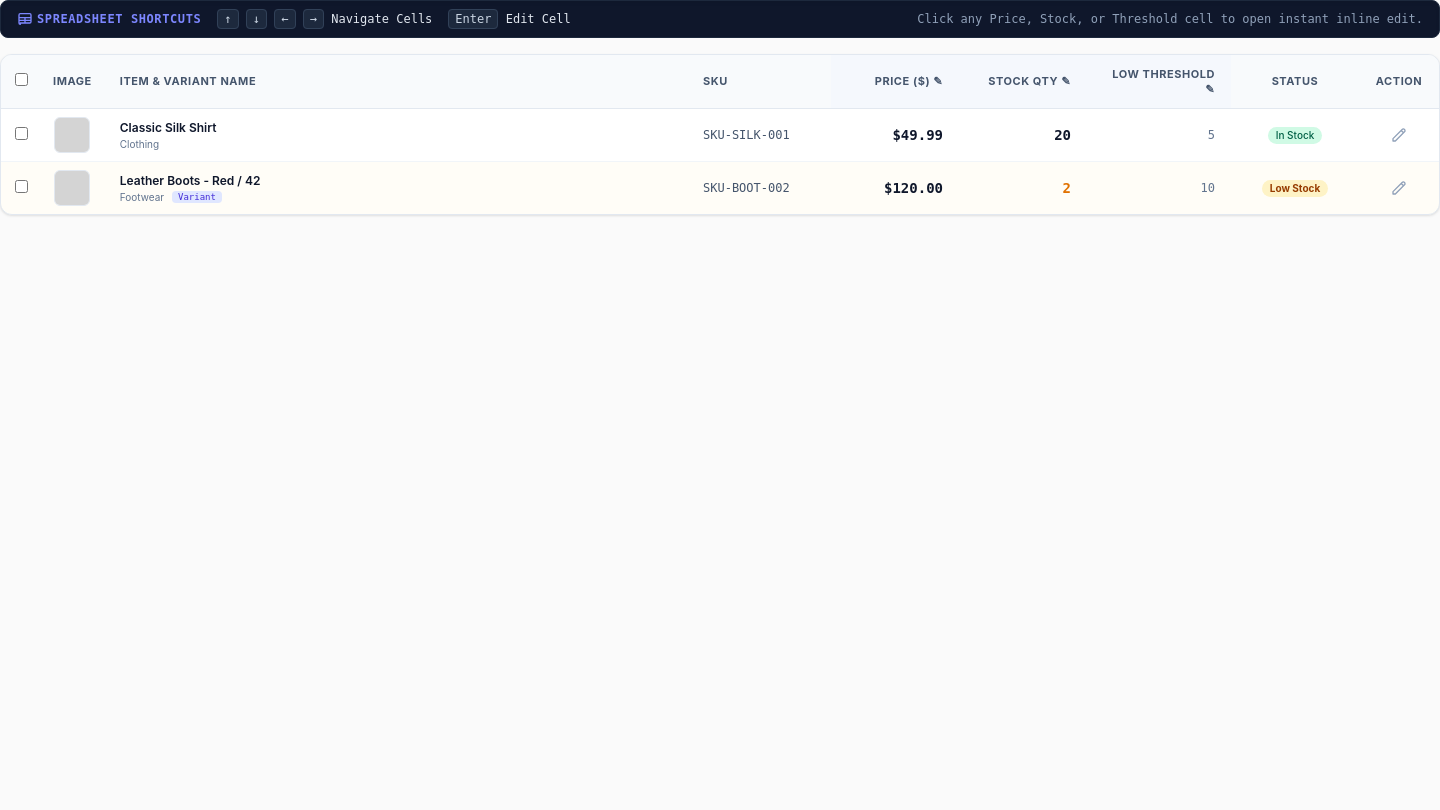
Test: InventoryTable Component › opens inline edit popover when cell is clicked
Click the text "$49.99" at {"x": 895, "y": 135}, box [831, 109, 959, 162]
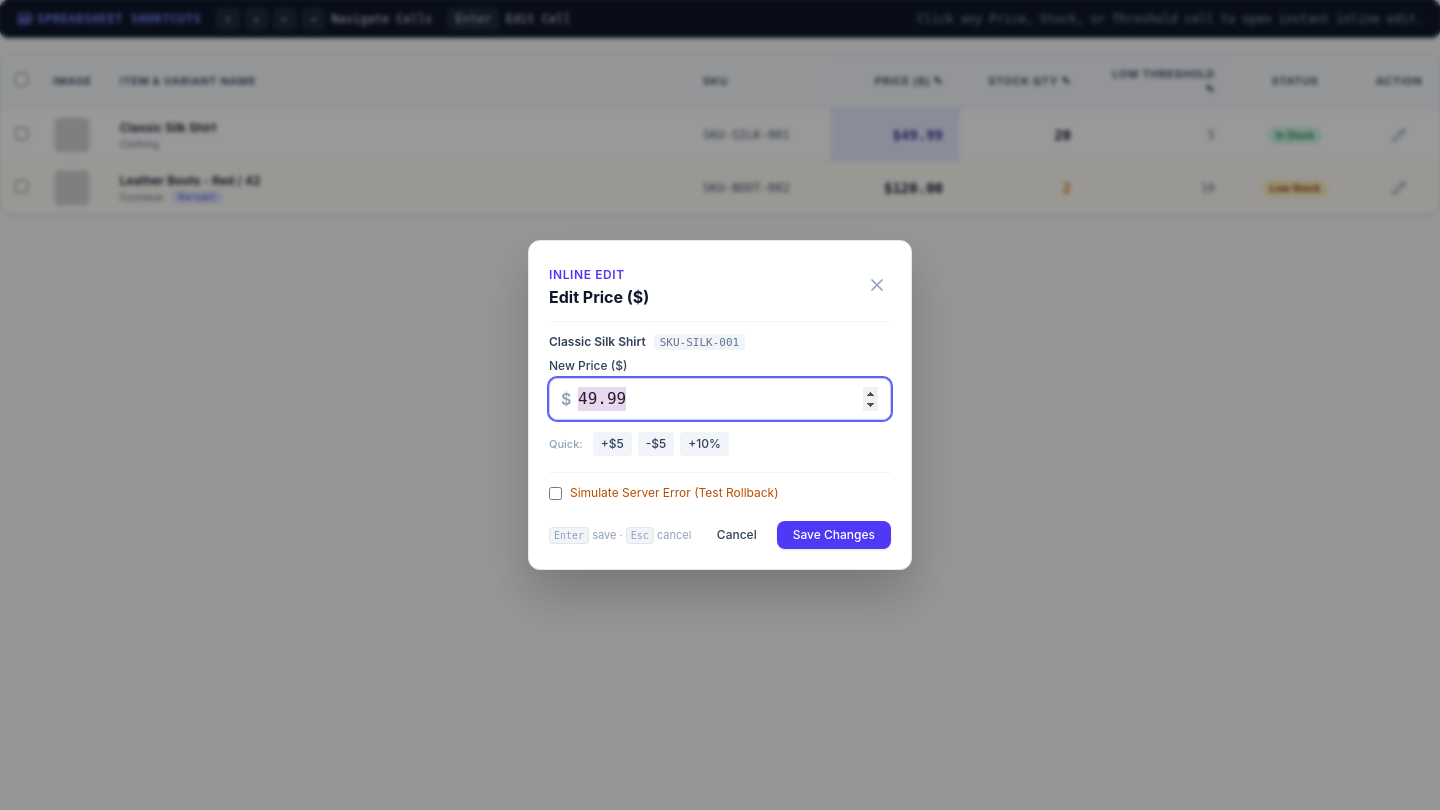
Check: the dialog is shown
Check: the heading "Edit Price ($)" is shown, box [549, 285, 649, 309]
